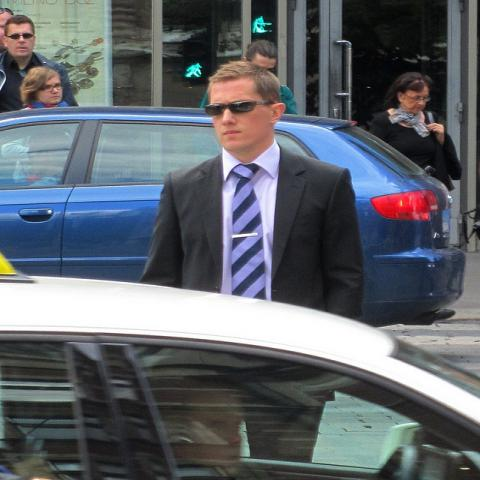car: (2, 107, 466, 325), (2, 270, 480, 472)
